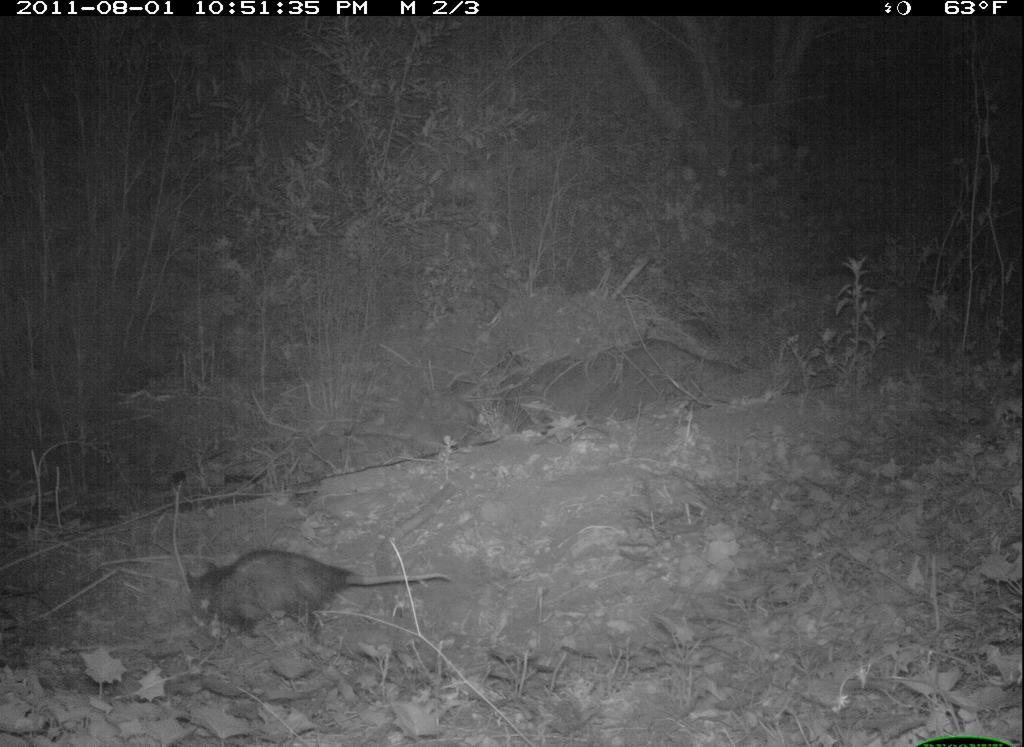opossum: (177, 541, 457, 644)
